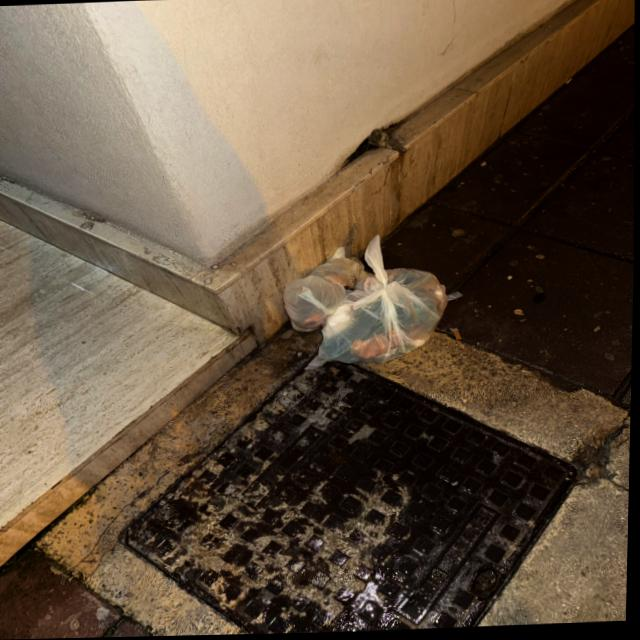Organic Waste -White Bags-: (282, 234, 447, 369)
